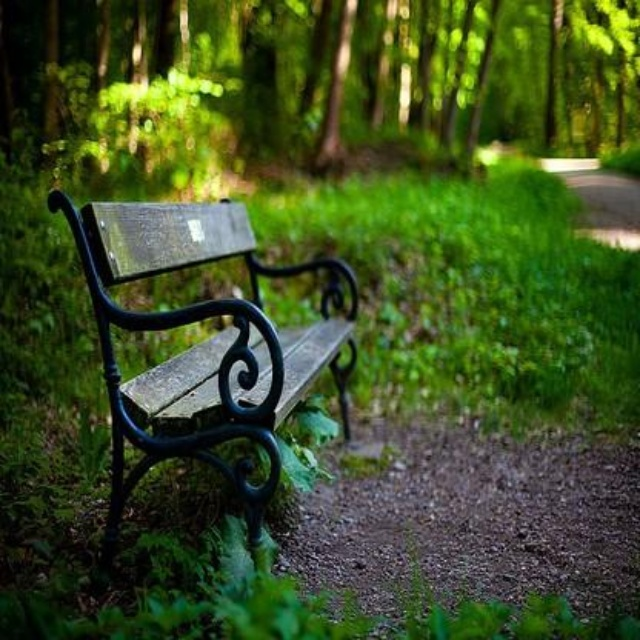obstacle: (62, 178, 375, 571)
